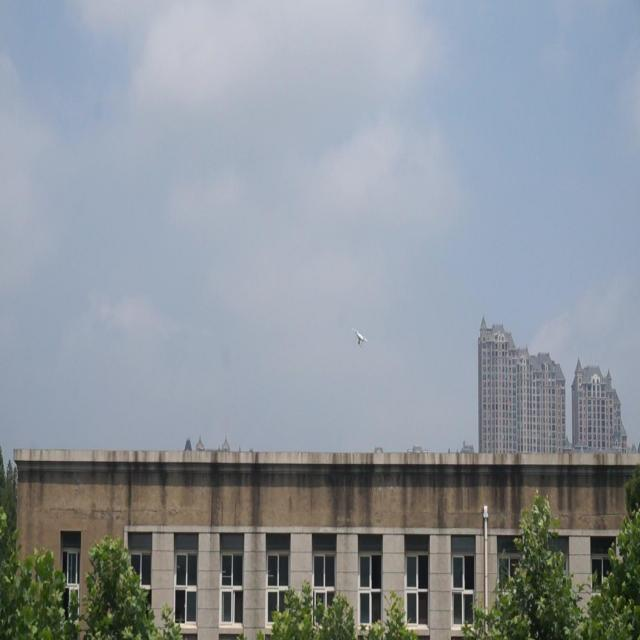UAV: (352, 326, 369, 347)
